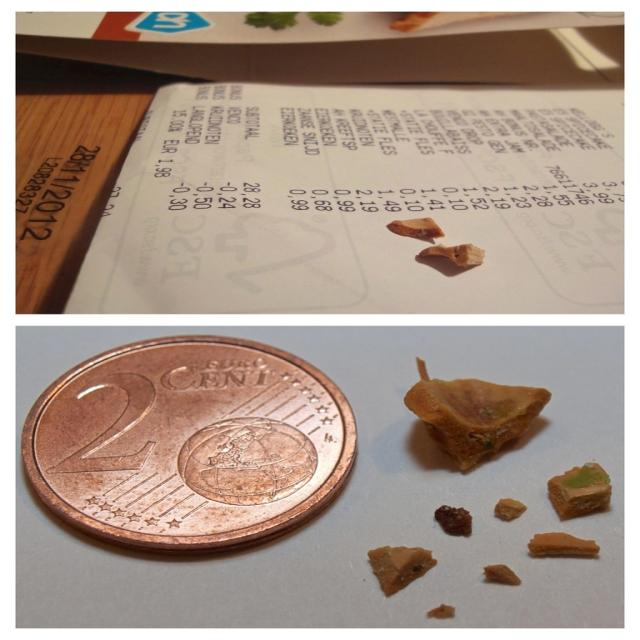Coin: (14, 337, 368, 549)
